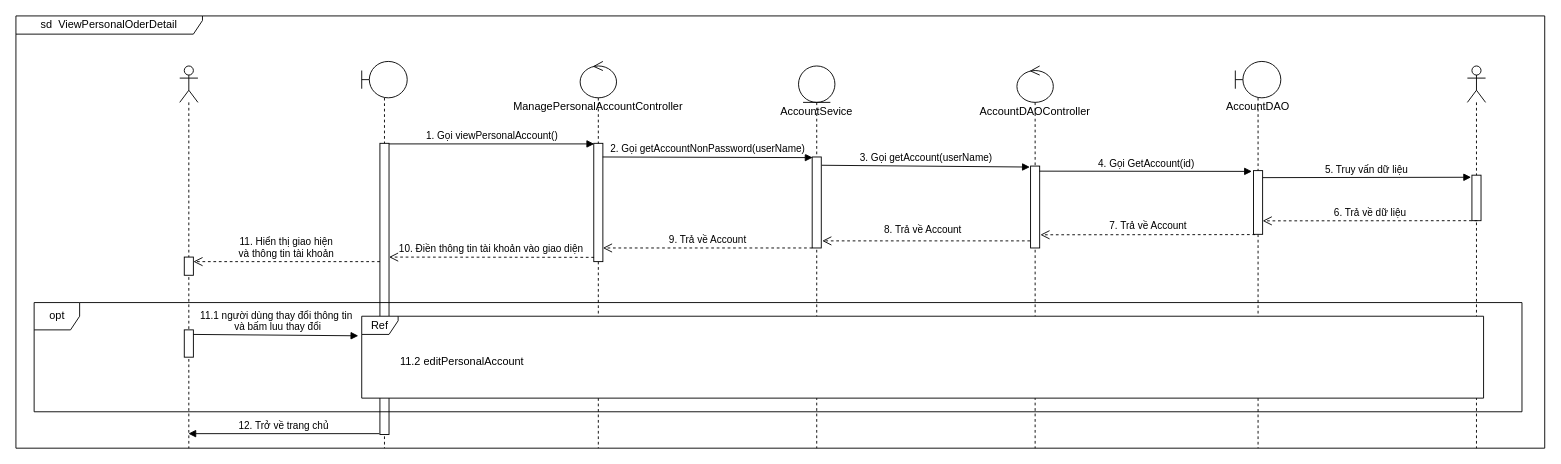
Some shapes in this 1561 by 464 pixel diagram are drawn without their labels. Each missing label, with the box of its shape:
CSDL: (1466, 65, 1486, 448)
ManagePersonalAccountGUI: (361, 61, 407, 448)
người dùng: (179, 65, 198, 448)
